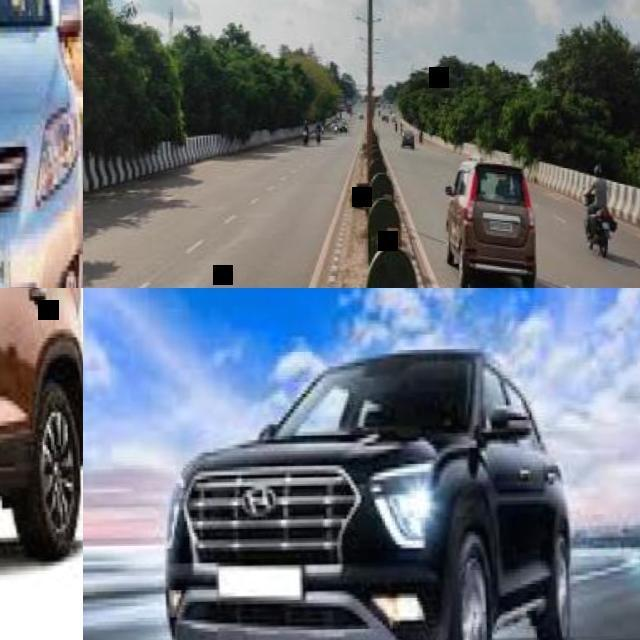car: (161, 345, 624, 637), (0, 0, 78, 215), (0, 347, 77, 557), (442, 156, 535, 281)
